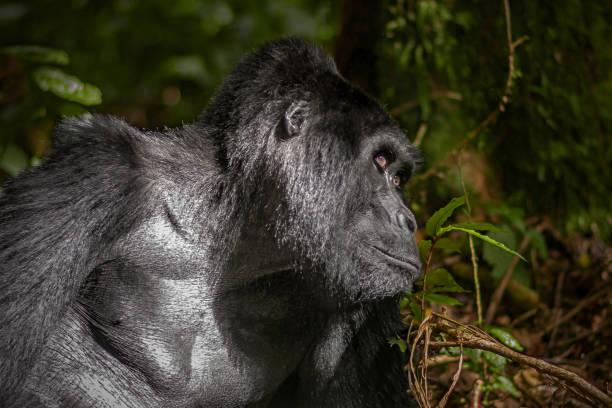goriile_montagne: (3, 35, 436, 408)
